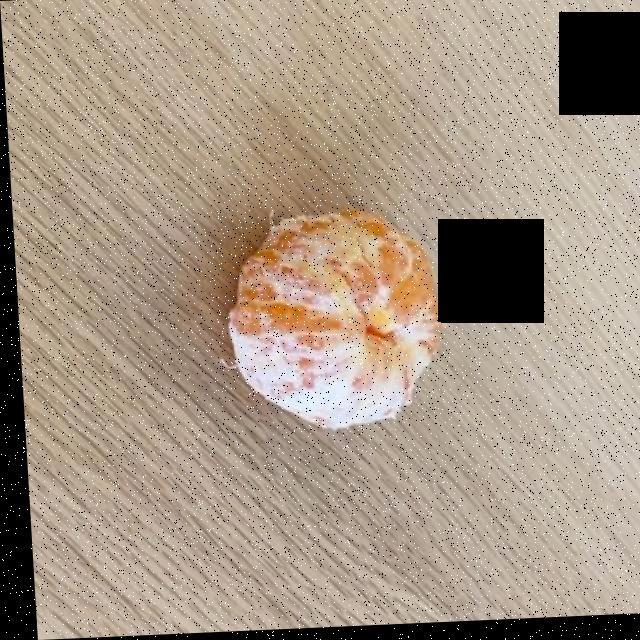mandarine: (226, 213, 440, 431)
